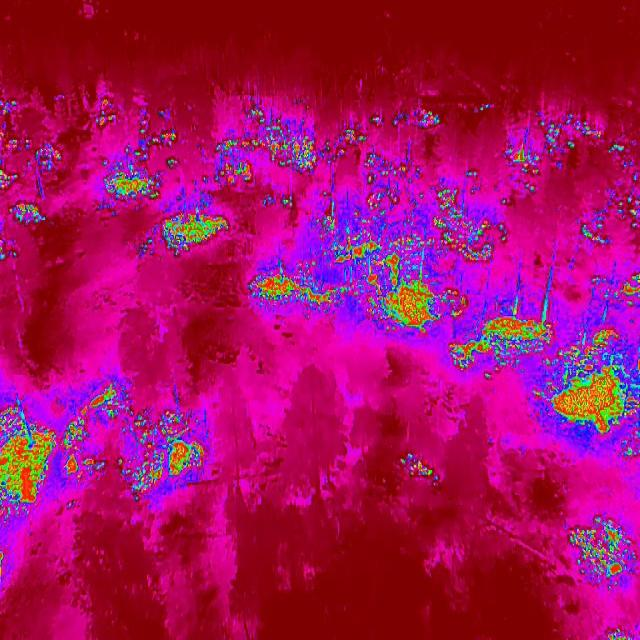fire: (62, 383, 206, 502), (212, 100, 353, 206), (533, 345, 639, 460), (0, 99, 62, 266), (447, 293, 561, 382), (320, 192, 431, 280), (92, 96, 178, 206), (432, 173, 514, 271), (368, 260, 456, 340), (246, 266, 367, 322), (0, 404, 56, 524), (580, 139, 640, 251), (563, 513, 639, 592), (160, 207, 230, 259), (358, 144, 424, 194), (544, 111, 606, 160), (366, 105, 450, 137), (500, 131, 545, 179), (396, 452, 444, 491), (618, 262, 640, 310), (600, 626, 635, 640), (470, 100, 500, 116), (0, 546, 5, 584)
